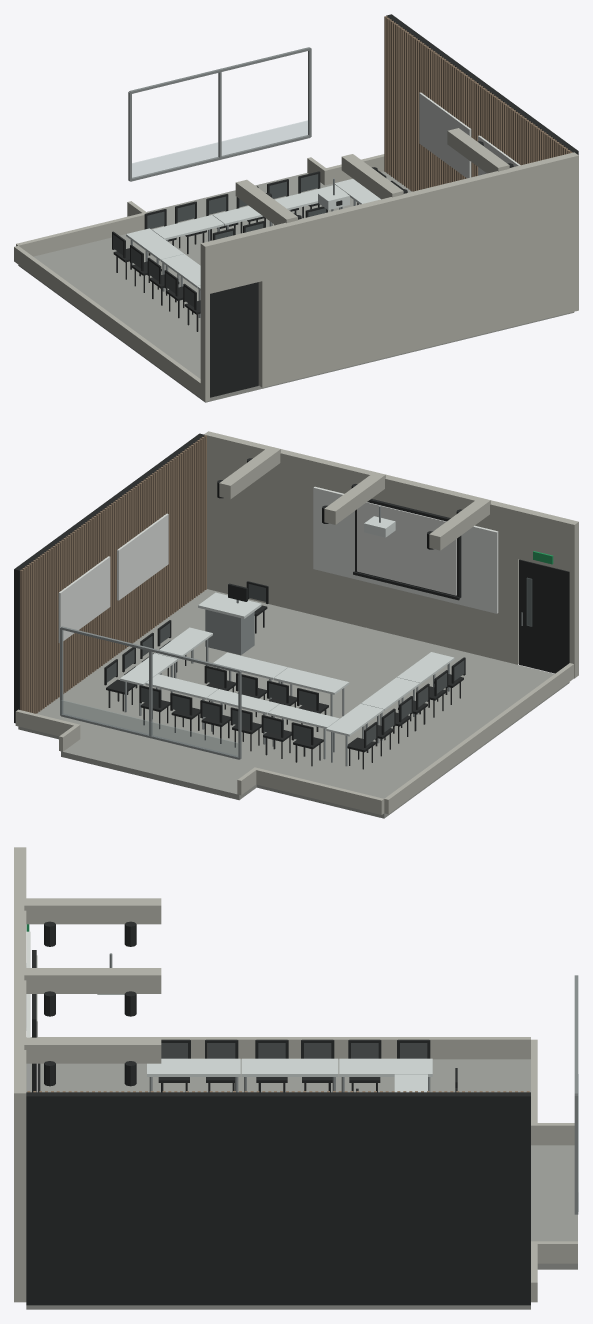
Rendered from mar-107-interior-97198d9b2386.glb.
3 views of the same model, one above another, from view 1: azimuth 30°, elevation 25°; view 2: azimuth 150°, elevation 25°; view 3: azimuth 270°, elevation 25° (orthographic). The views are drawn at different scales.
Visible parts, largest first — view 1: mar-107; view 2: mar-107; view 3: mar-107.
Boxes of the visible parts, x1,y1,x2,y2 form: mar-107: (14, 14, 578, 402); mar-107: (14, 431, 578, 818); mar-107: (14, 847, 578, 1309).
Size of the model in its own units: 8.68 by 3.6 by 8.33.
